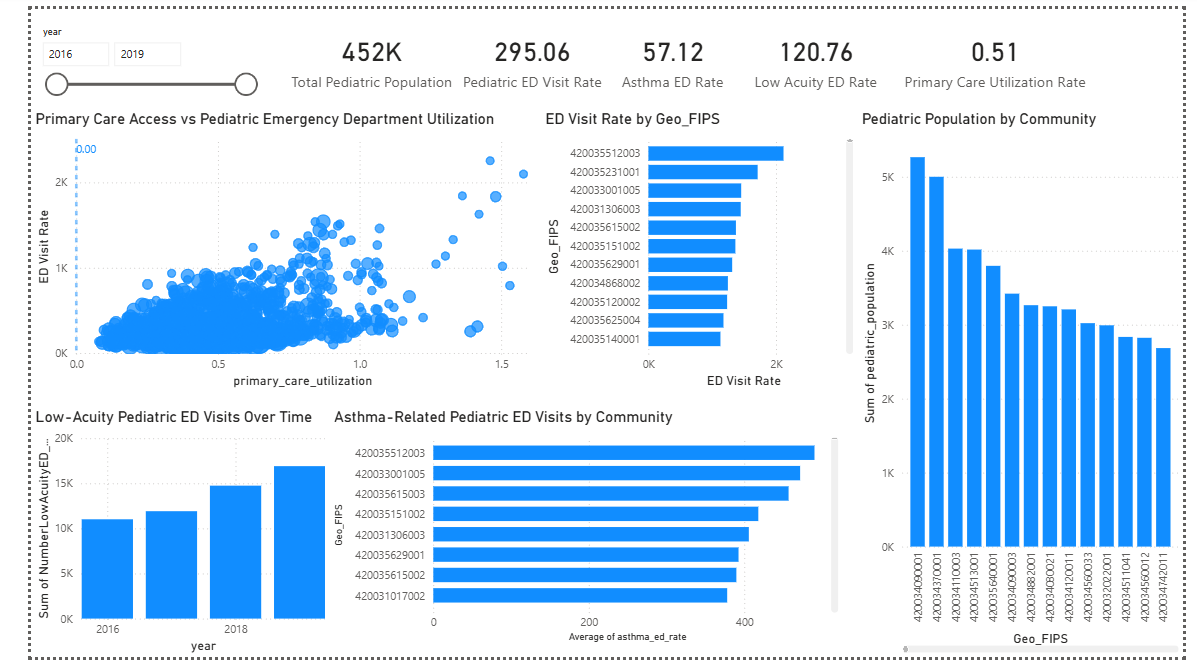

The page's visual inventory and layout, read from the dashboard file:
{"tool":"powerbi","page":{"name":"Population Health Analytics: Pediatric Emergency Department Utilization","canvas":[1280,720],"ordinal":0},"visuals":[{"type":"slicer","fields":{"Values":["pediatric_population_health_dataset (1).year"]},"box":[0,13.3,260,98.3],"z":0},{"type":"scatterChart","title":"Primary Care Access vs Pediatric Emergency Department Utilization","fields":{"X":["pediatric_population_health_dataset (1).primary_care_utilization"],"Size":["Sum(pediatric_population_health_dataset (1).pediatric_population)"],"Y":["pediatric_population_health_dataset (1).ED Visit Rate"]},"box":[0,111.7,566.7,313.3],"z":1000},{"type":"clusteredBarChart","fields":{"Y":["pediatric_population_health_dataset (1).ED Visit Rate"],"Category":["pediatric_population_health_dataset (1).Geo_FIPS"]},"box":[566.7,111.7,351.7,313.3],"z":2000},{"type":"clusteredBarChart","title":"Asthma-Related Pediatric ED Visits by Community","fields":{"Category":["pediatric_population_health_dataset (1).Geo_FIPS"],"Y":["Avg(pediatric_population_health_dataset (1).asthma_ed_rate)"]},"box":[331.7,443.3,570,265],"z":3000},{"type":"clusteredColumnChart","title":"Pediatric Population by Community","fields":{"Y":["Sum(pediatric_population_health_dataset (1).pediatric_population)"],"Category":["pediatric_population_health_dataset (1).Geo_FIPS"]},"box":[918.3,111.7,361.7,608.3],"z":4000},{"type":"clusteredColumnChart","title":"Low-Acuity Pediatric ED Visits Over Time","fields":{"Category":["pediatric_population_health_dataset (1).year"],"Y":["Sum(pediatric_population_health_dataset (1).NumberLowAcuityED_VisitsAge0to17)"]},"box":[0,443.3,331.7,276.7],"z":5000},{"type":"card","title":"Low-Acuity Pediatric ","fields":{"Values":["Sum(pediatric_population_health_dataset (1).pediatric_population)"]},"box":[283.3,0,190,111.7],"z":6000},{"type":"card","title":"Low-Acuity Pediatric ","fields":{"Values":["pediatric_population_health_dataset (1).ED Visit Rate"]},"box":[473.3,0,166.7,111.7],"z":7000},{"type":"card","title":"Low-Acuity Pediatric ","fields":{"Values":["Avg(pediatric_population_health_dataset (1).primary_care_utilization)"]},"box":[961.7,0,218.3,111.7],"z":8000},{"type":"card","title":"Low-Acuity Pediatric ","fields":{"Values":["pediatric_population_health_dataset (1).Asthma ED Rate"]},"box":[643.3,0,138.3,111.7],"z":9000},{"type":"card","title":"Low-Acuity Pediatric ","fields":{"Values":["pediatric_population_health_dataset (1).Low Acuity ED Rate"]},"box":[781.7,0,180,111.7],"z":10000}]}

Visuals, with their boxes in screenshot pixels (x1, y1, x2, y2), scaled from the page's 1280x720 canvas onto the 1197x667 screenshot:
slicer - pediatric_population_health_dataset (1).year: BBox(0, 12, 243, 103)
"Primary Care Access vs Pediatric Emergency Department Utilization" scatterChart: BBox(0, 103, 530, 394)
clusteredBarChart - pediatric_population_health_dataset (1).ED Visit Rate x pediatric_population_health_dataset (1).Geo_FIPS: BBox(530, 103, 859, 394)
"Asthma-Related Pediatric ED Visits by Community" clusteredBarChart: BBox(310, 411, 843, 656)
"Pediatric Population by Community" clusteredColumnChart: BBox(859, 103, 1196, 666)
"Low-Acuity Pediatric ED Visits Over Time" clusteredColumnChart: BBox(0, 411, 310, 666)
"Low-Acuity Pediatric " card: BBox(265, 0, 443, 103)
"Low-Acuity Pediatric " card: BBox(443, 0, 598, 103)
"Low-Acuity Pediatric " card: BBox(899, 0, 1103, 103)
"Low-Acuity Pediatric " card: BBox(602, 0, 731, 103)
"Low-Acuity Pediatric " card: BBox(731, 0, 899, 103)
